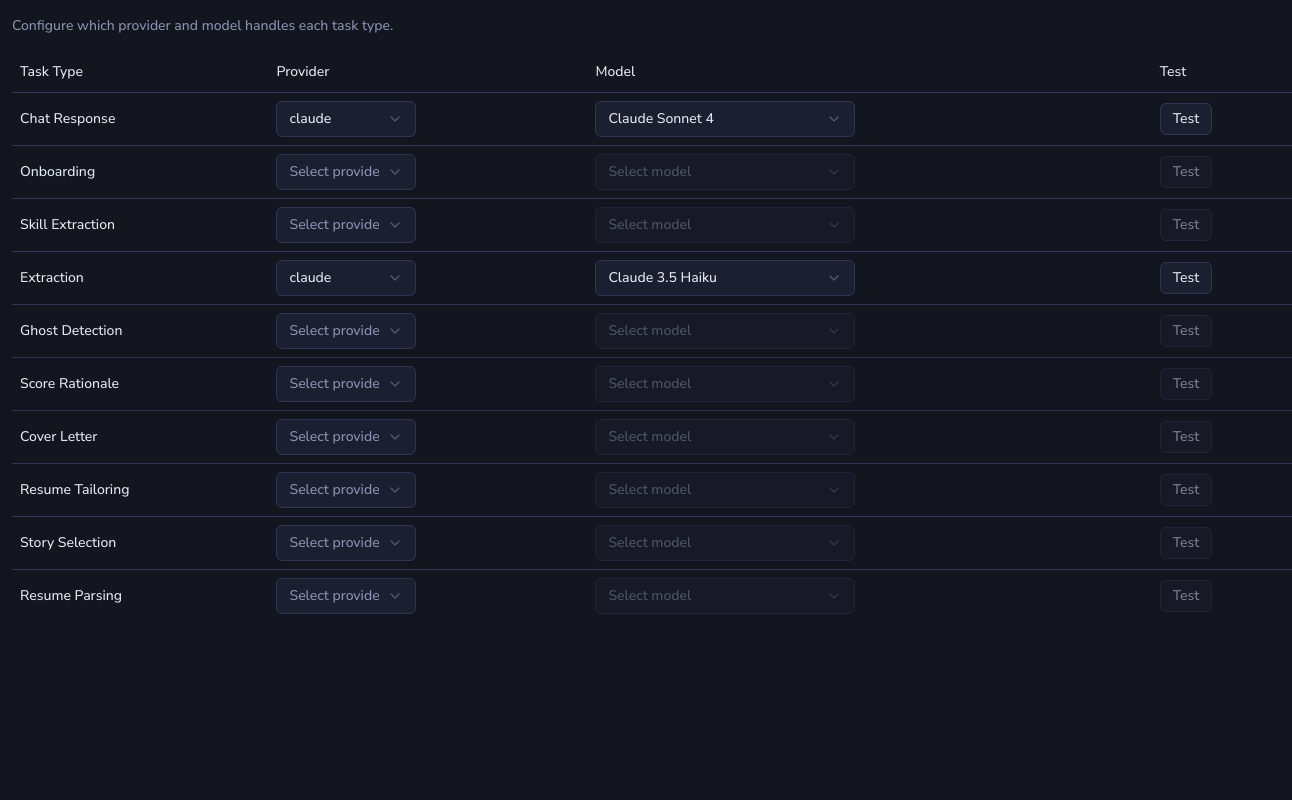
it: RoutingTab › shows models filtered by provider in model dropdown
Check: the text "Extraction" is shown, box [12,251,268,304]
# Extraction is configured with claude — model dropdown shows claude models
Click the dropdown with test id "model-select-extraction". click: coordinates (663, 277)
box: [595,260,855,296]
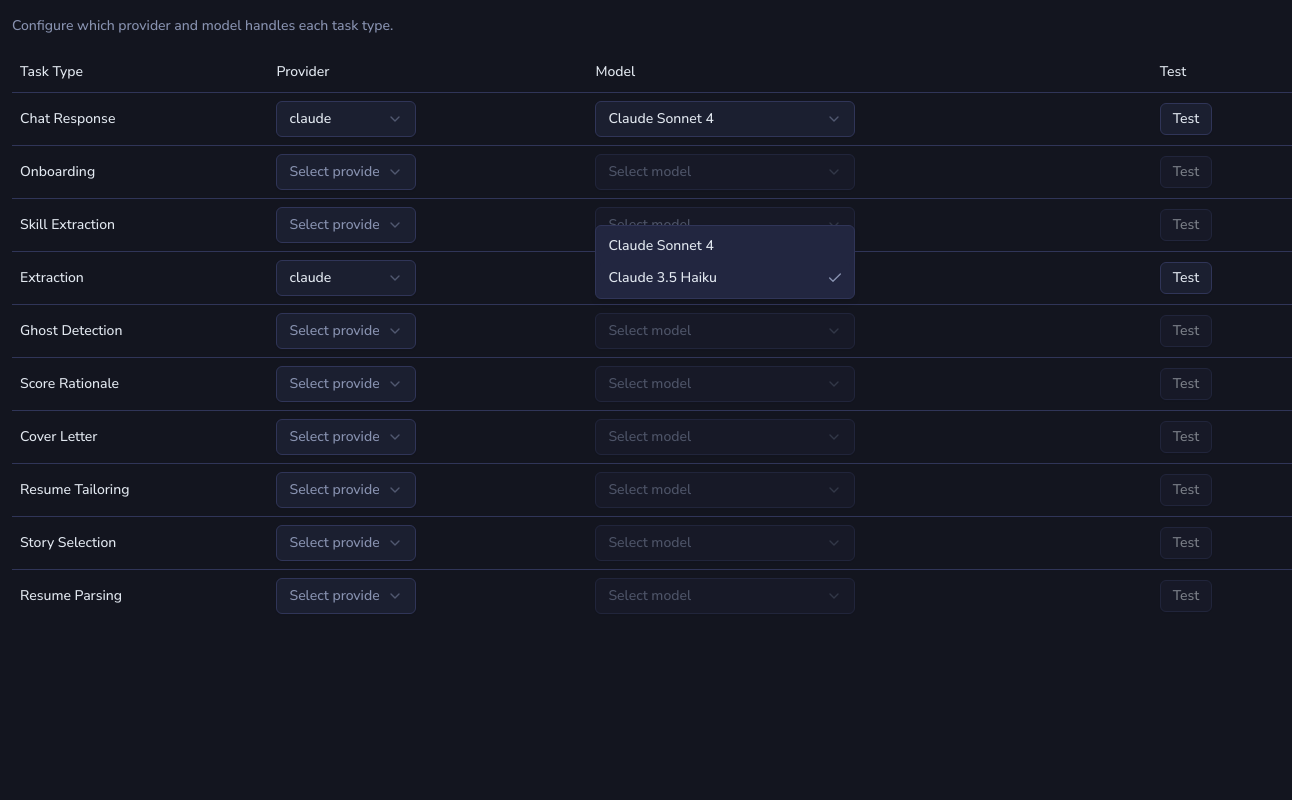
Check: the option "Claude Sonnet 4" is shown, box [608,236,714,254]
Check: the option "Claude 3.5 Haiku" is shown, box [600,262,850,294]
